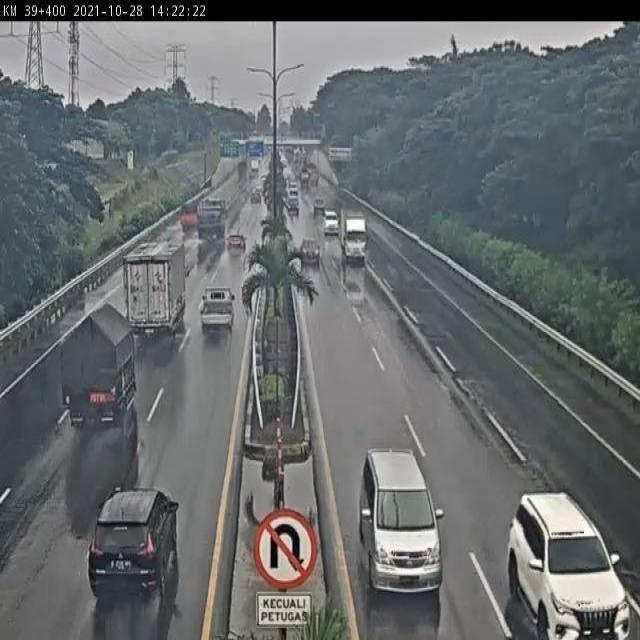Car: (507, 493, 630, 638), (348, 438, 450, 602), (88, 486, 180, 605), (198, 286, 236, 334), (300, 239, 321, 266), (322, 209, 340, 236), (313, 198, 326, 216)
Truck: (51, 302, 143, 445), (122, 240, 189, 348), (340, 210, 368, 264), (196, 198, 226, 240)
